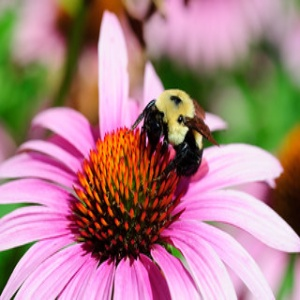bee: (142, 86, 217, 187)
